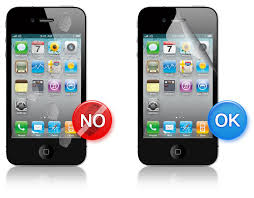iphone: (5, 5, 90, 168), (138, 4, 222, 167)
iphone4: (4, 3, 89, 166), (137, 3, 221, 166)
